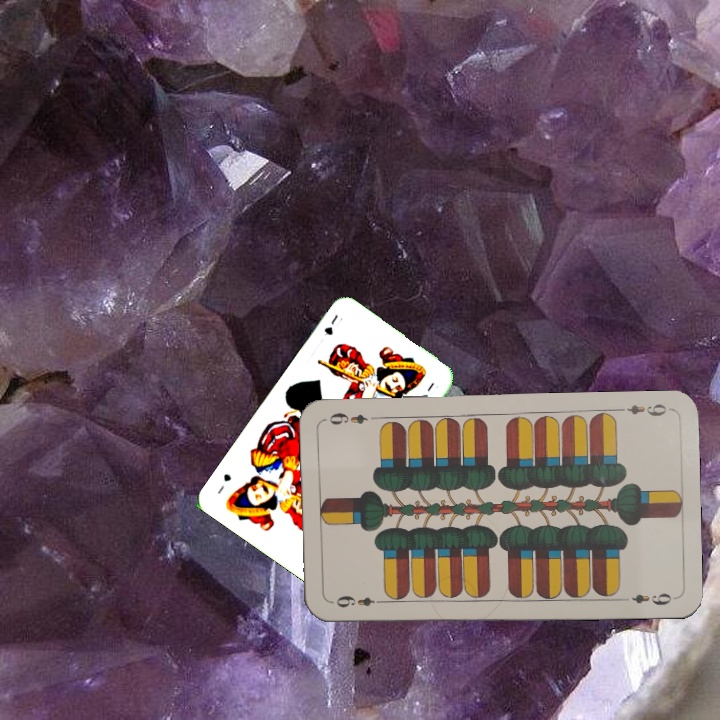E9: (613, 399, 670, 418), (332, 592, 386, 610)
GU: (320, 310, 341, 338)
